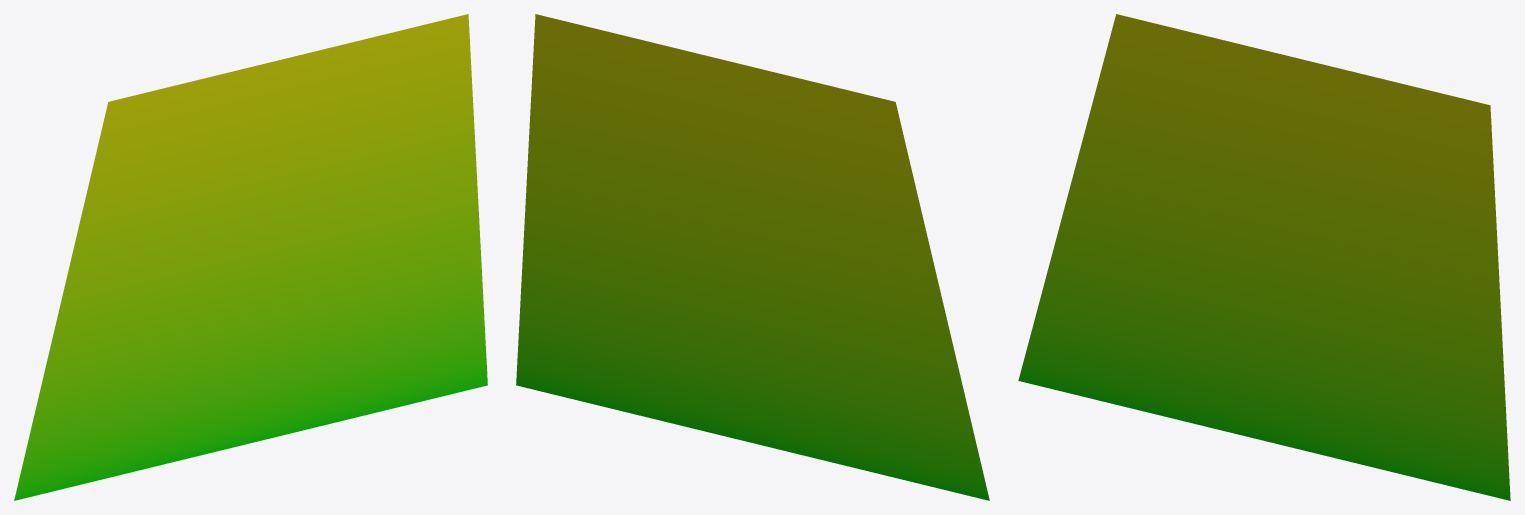
File: Broadleaf Plantain_LOD4_Var1_sfhjc.fbx
3 views of the same model, side by side, from view 1: azimuth 30°, elevation 25°; view 2: azimuth 150°, elevation 25°; view 3: azimuth 330°, elevation 25° (orthographic). The views are drawn at different scales.
Visible parts, largest first — view 1: _1279_Var1_LOD4; view 2: _1279_Var1_LOD4; view 3: _1279_Var1_LOD4.
Part boxes in pixels (bbox=[...]): _1279_Var1_LOD4: bbox=[14, 14, 487, 500]; _1279_Var1_LOD4: bbox=[516, 14, 989, 500]; _1279_Var1_LOD4: bbox=[1018, 14, 1510, 500].
Bounding box in the file's own units: 38.5 × 29.2 × 1.03e-05.
